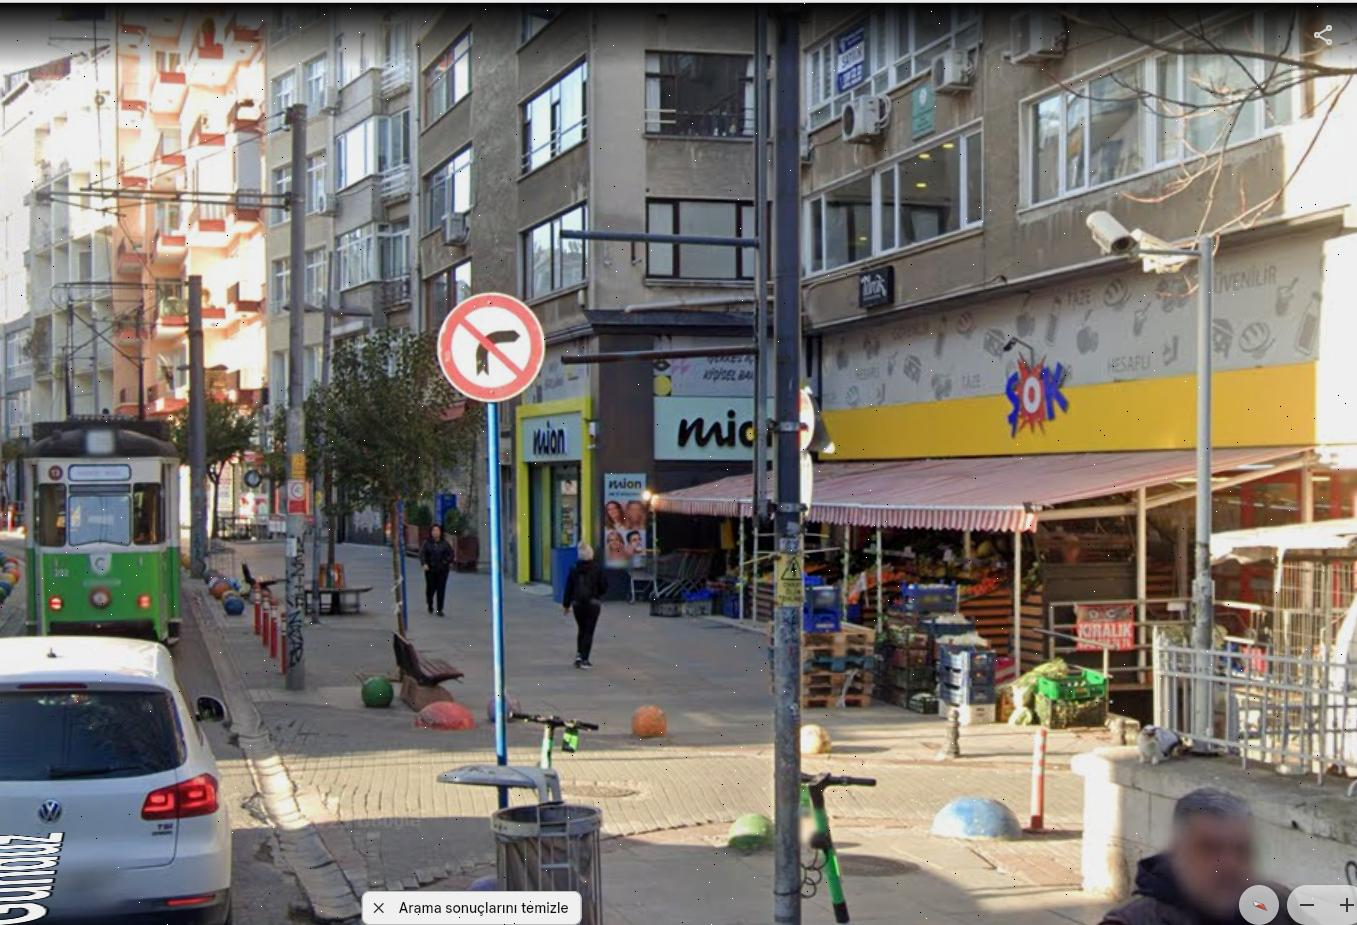rightturnsareforbidden: (439, 293, 548, 399)
